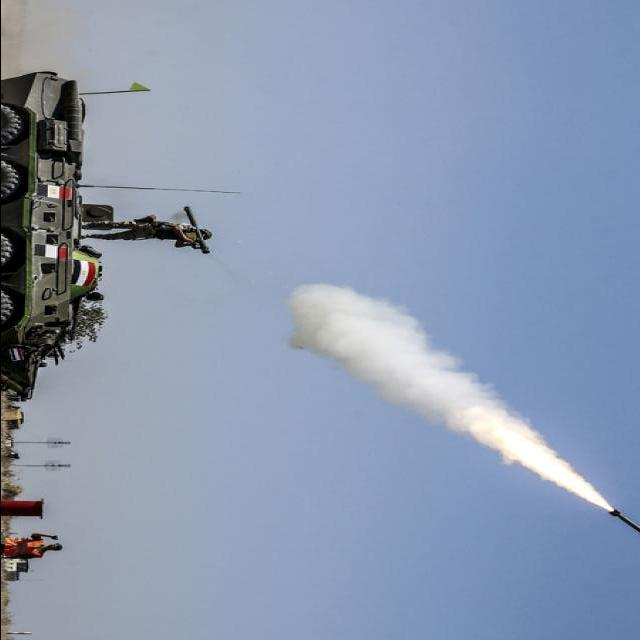missile: (606, 501, 640, 532)
